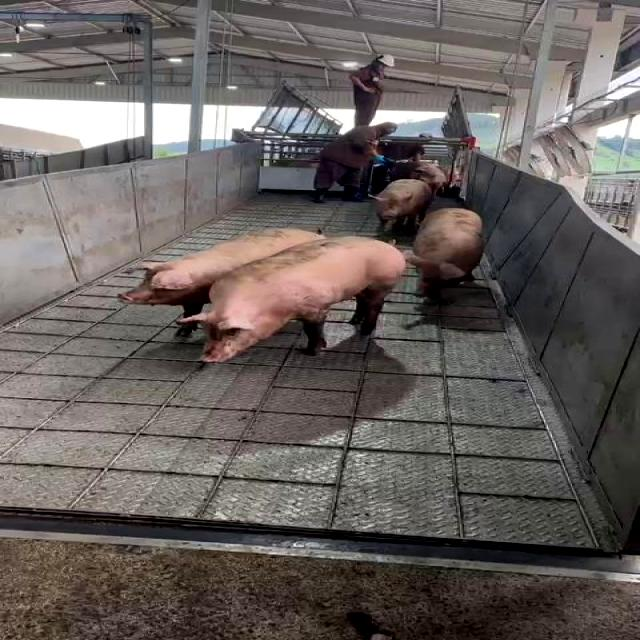pig: (178, 237, 405, 361), (119, 229, 325, 317), (412, 208, 483, 295), (372, 180, 433, 227)
